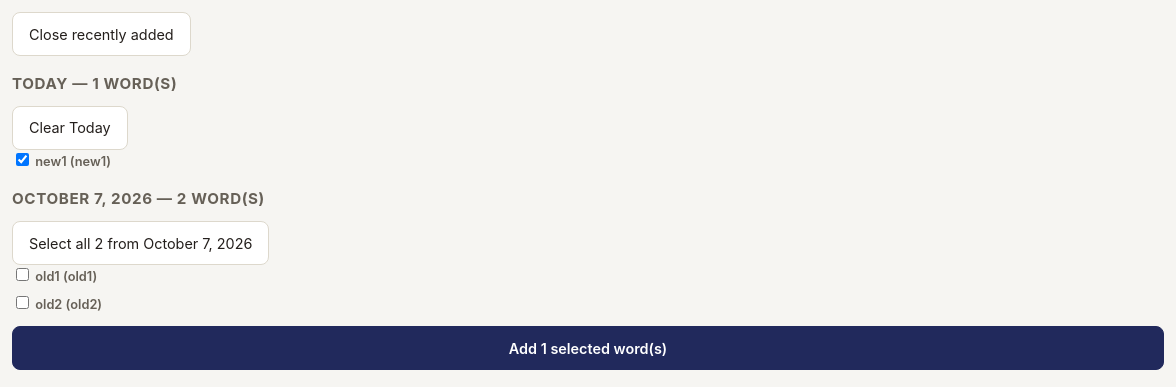
RecentWordsBrowser › a day's select-all covers only that day, and toggles back to a clear
Expected: the button "Add 1 selected word(s)" is shown, x1=12 y1=326 x2=1164 y2=370
Click the button "Select all 2 from October 7, 2026" at coordinates (141, 243), box x1=12 y1=221 x2=269 y2=265
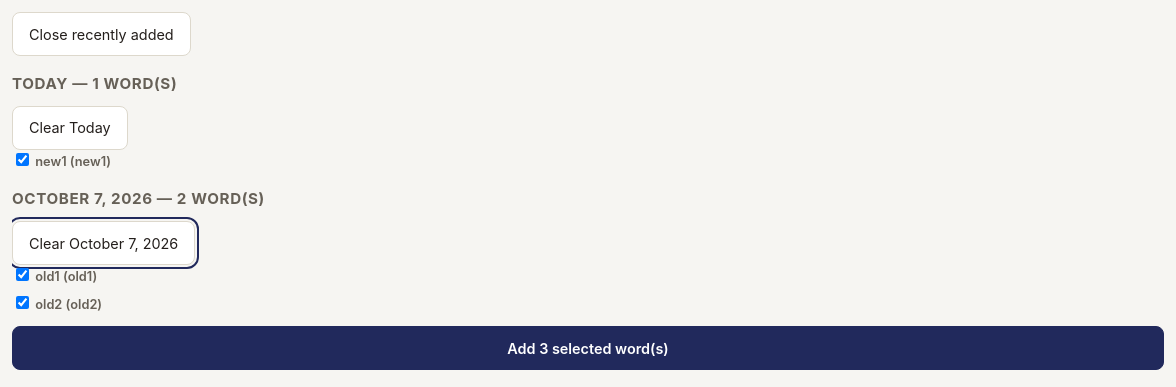
Expected: the button "Add 3 selected word(s)" is shown, x1=12 y1=326 x2=1164 y2=370
Click the button "Clear October 7, 2026" at coordinates (104, 243), box x1=12 y1=221 x2=195 y2=265
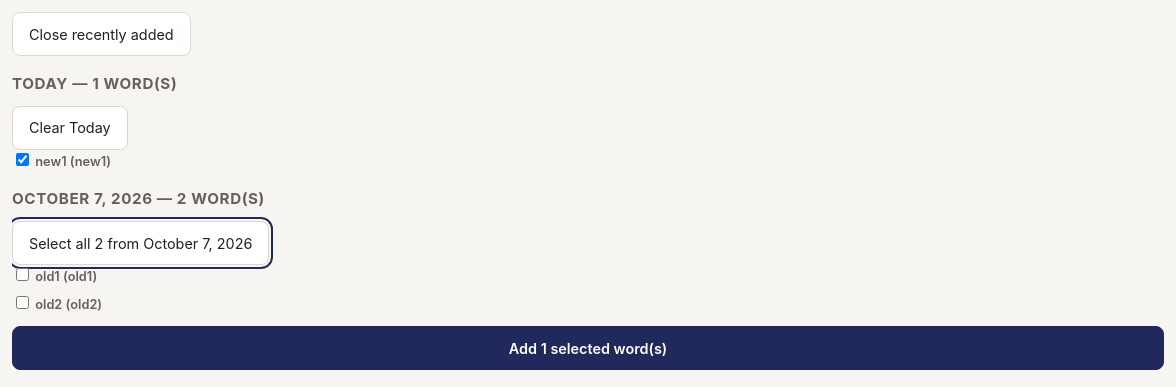
Expected: the button "Add 1 selected word(s)" is shown, x1=12 y1=326 x2=1164 y2=370
